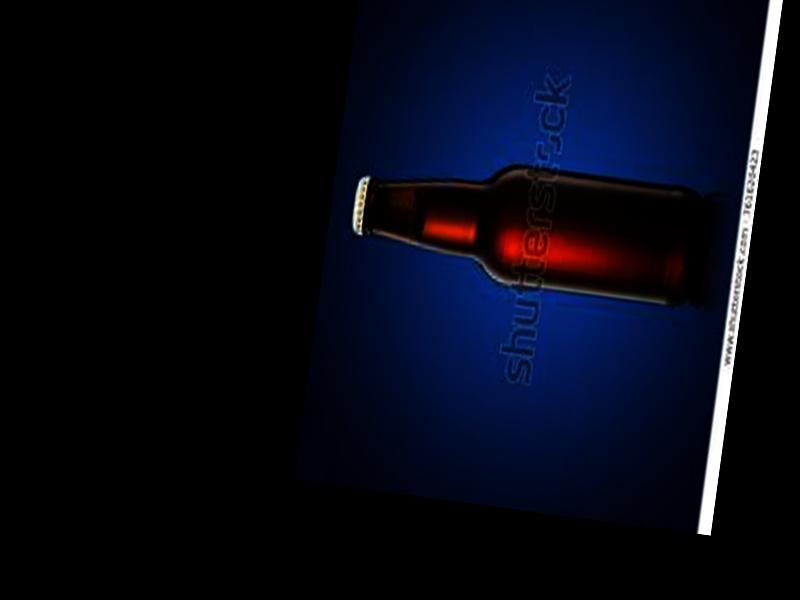Beer: (344, 142, 703, 309)
